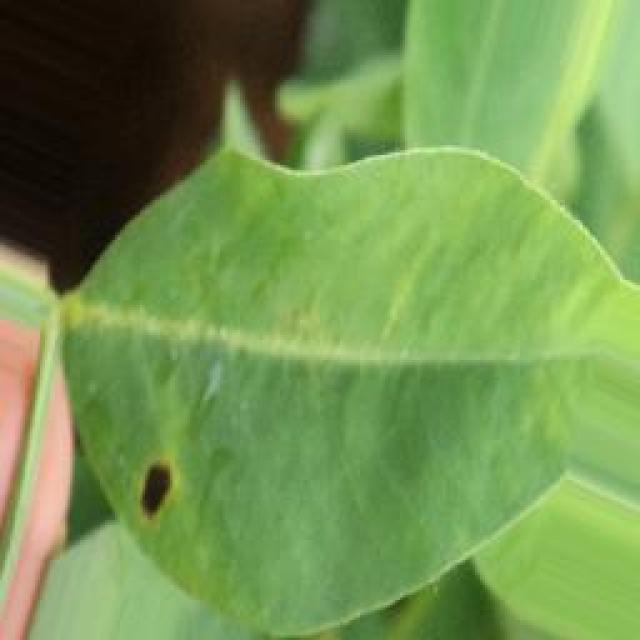Sigatoka: (106, 434, 210, 550)
